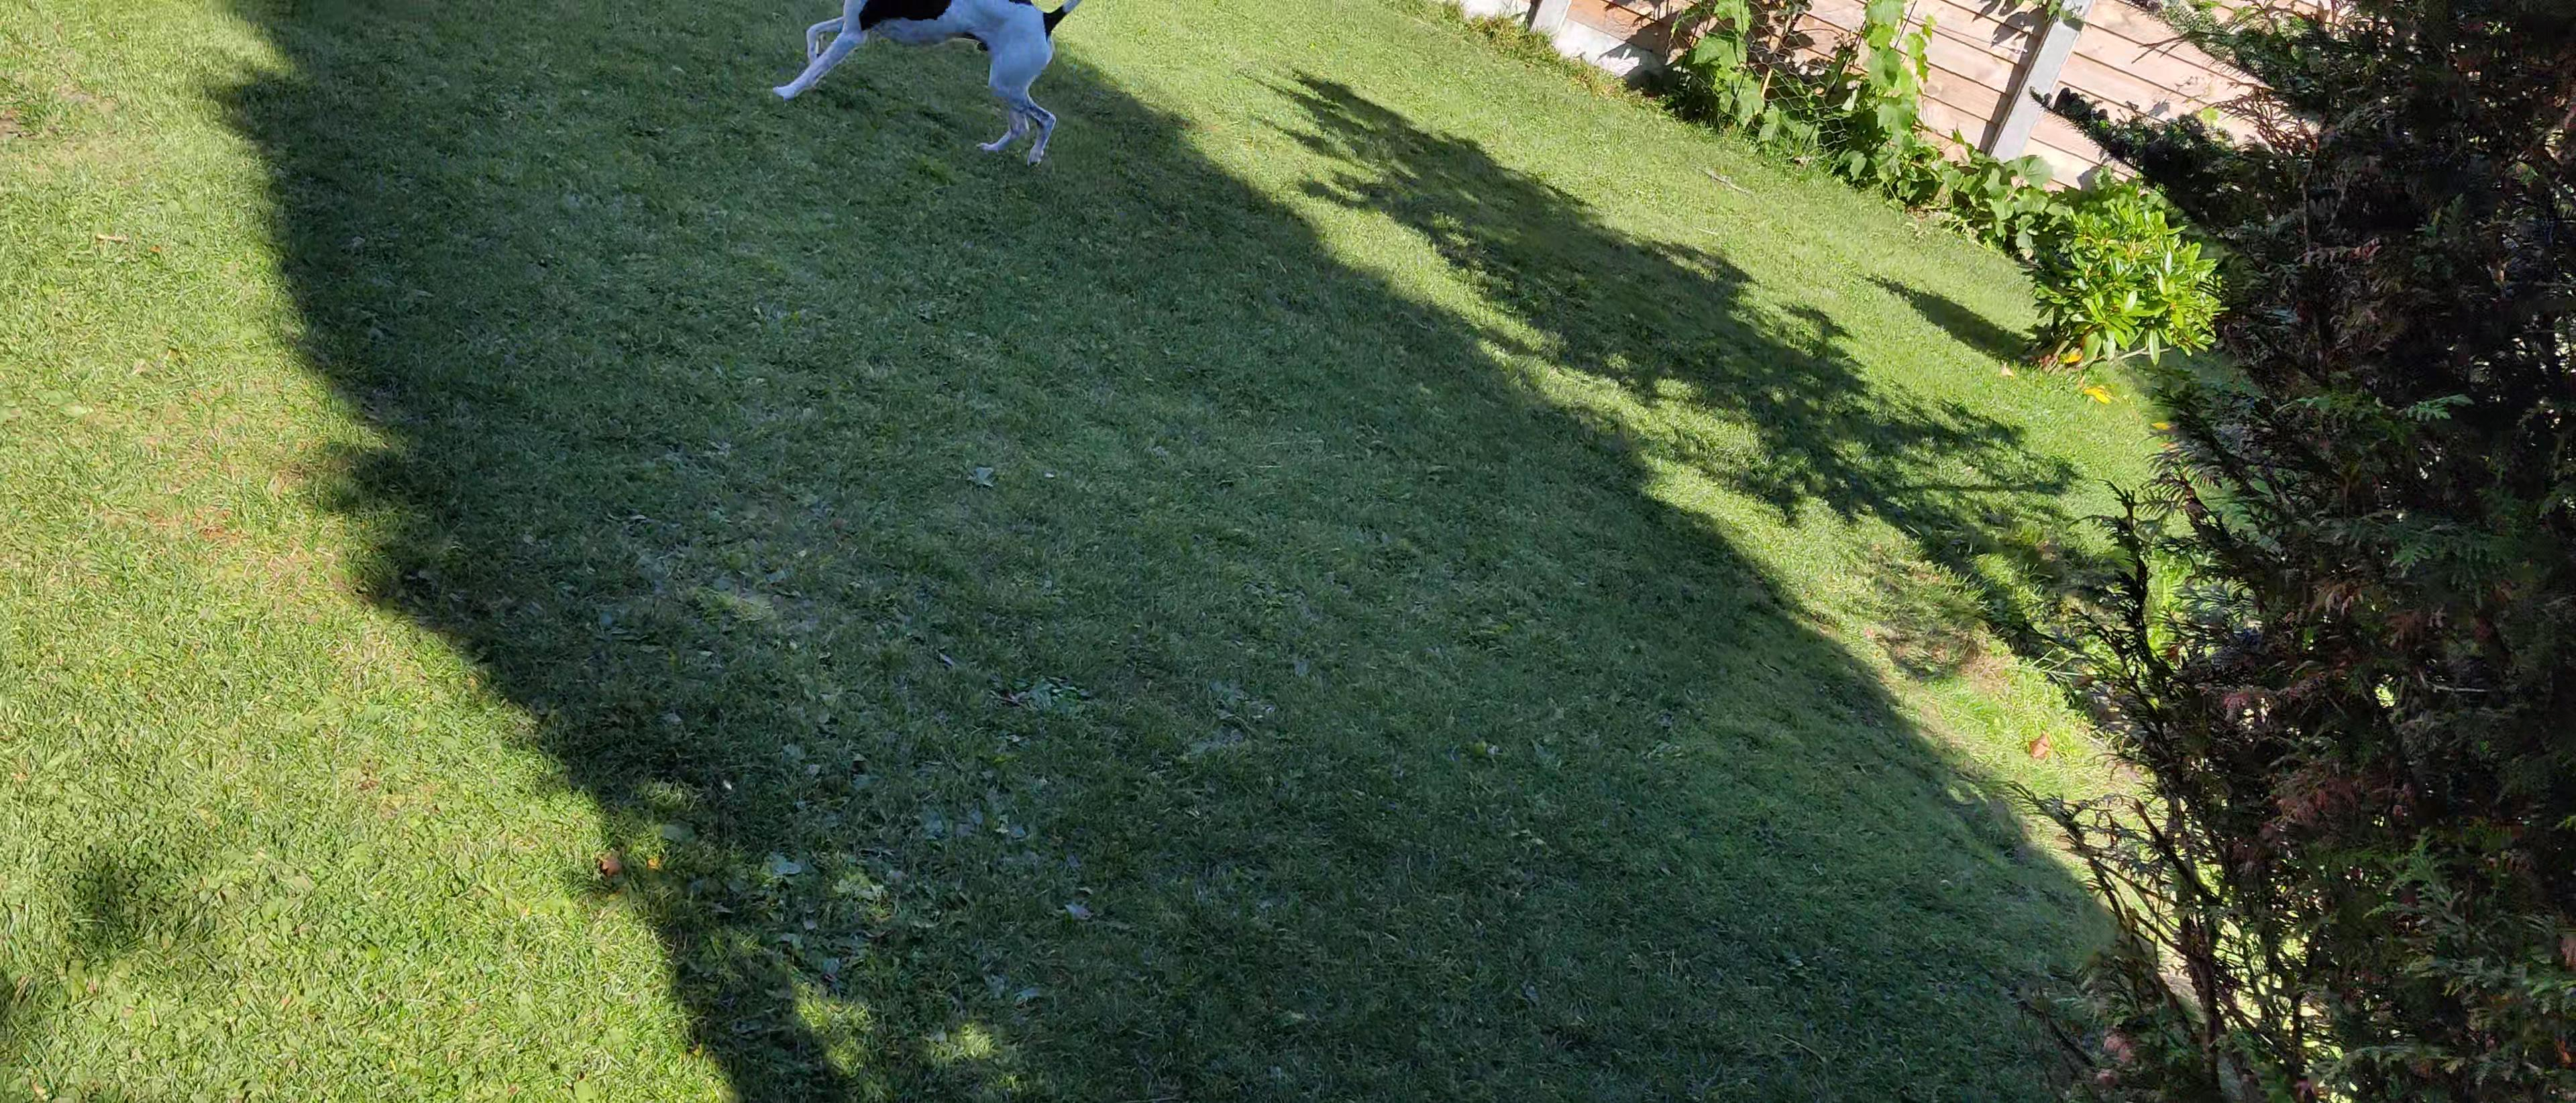Dog: (757, 0, 1096, 171)
